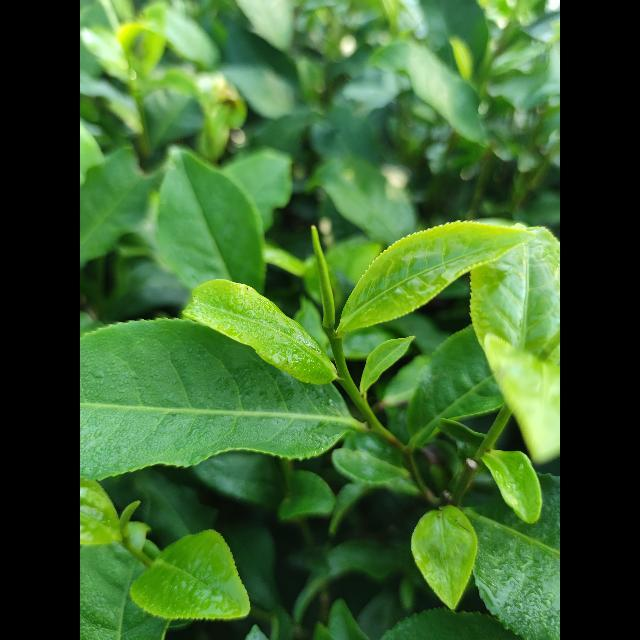Stem: (340, 371, 348, 383)
